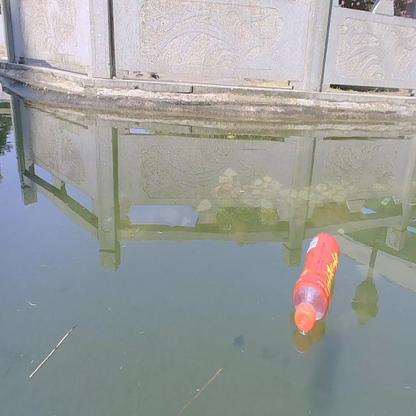plastic bottle: (292, 230, 341, 332)
